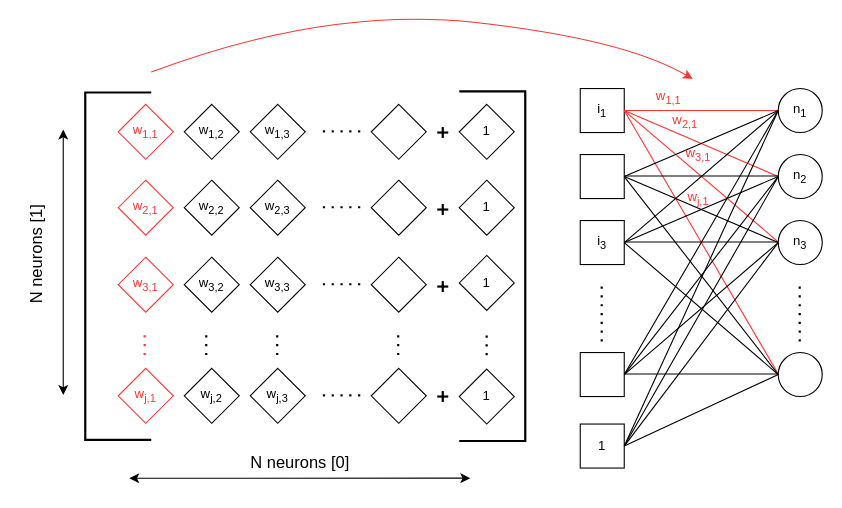
This 842x508 diagram has some shape labels left out. The shapes that lost their labels are listed below. From the top down, each one's centre as x and y in pixels, then its label:
At pixel 398 131: "w 1,k".
At pixel 601 176: "i 2".
At pixel 398 207: "w 2,k".
At pixel 398 284: "w 3,k".
At pixel 601 374: "i k".
At pixel 799 374: "n j".
At pixel 398 395: "w j,k".
